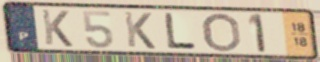1: (246, 12, 269, 54)
5: (80, 9, 116, 49)
K: (122, 10, 158, 51), (39, 8, 75, 48)
L: (163, 11, 199, 51)
O: (201, 11, 243, 53)
